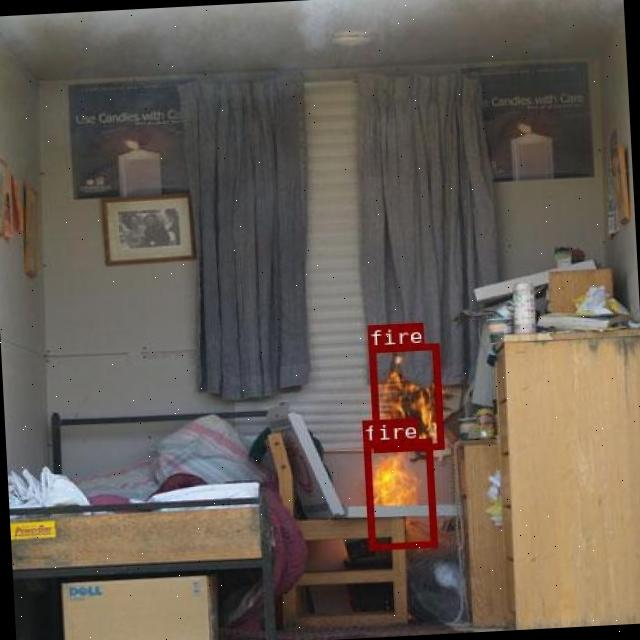fire: (363, 438, 437, 548), (368, 343, 442, 451)
